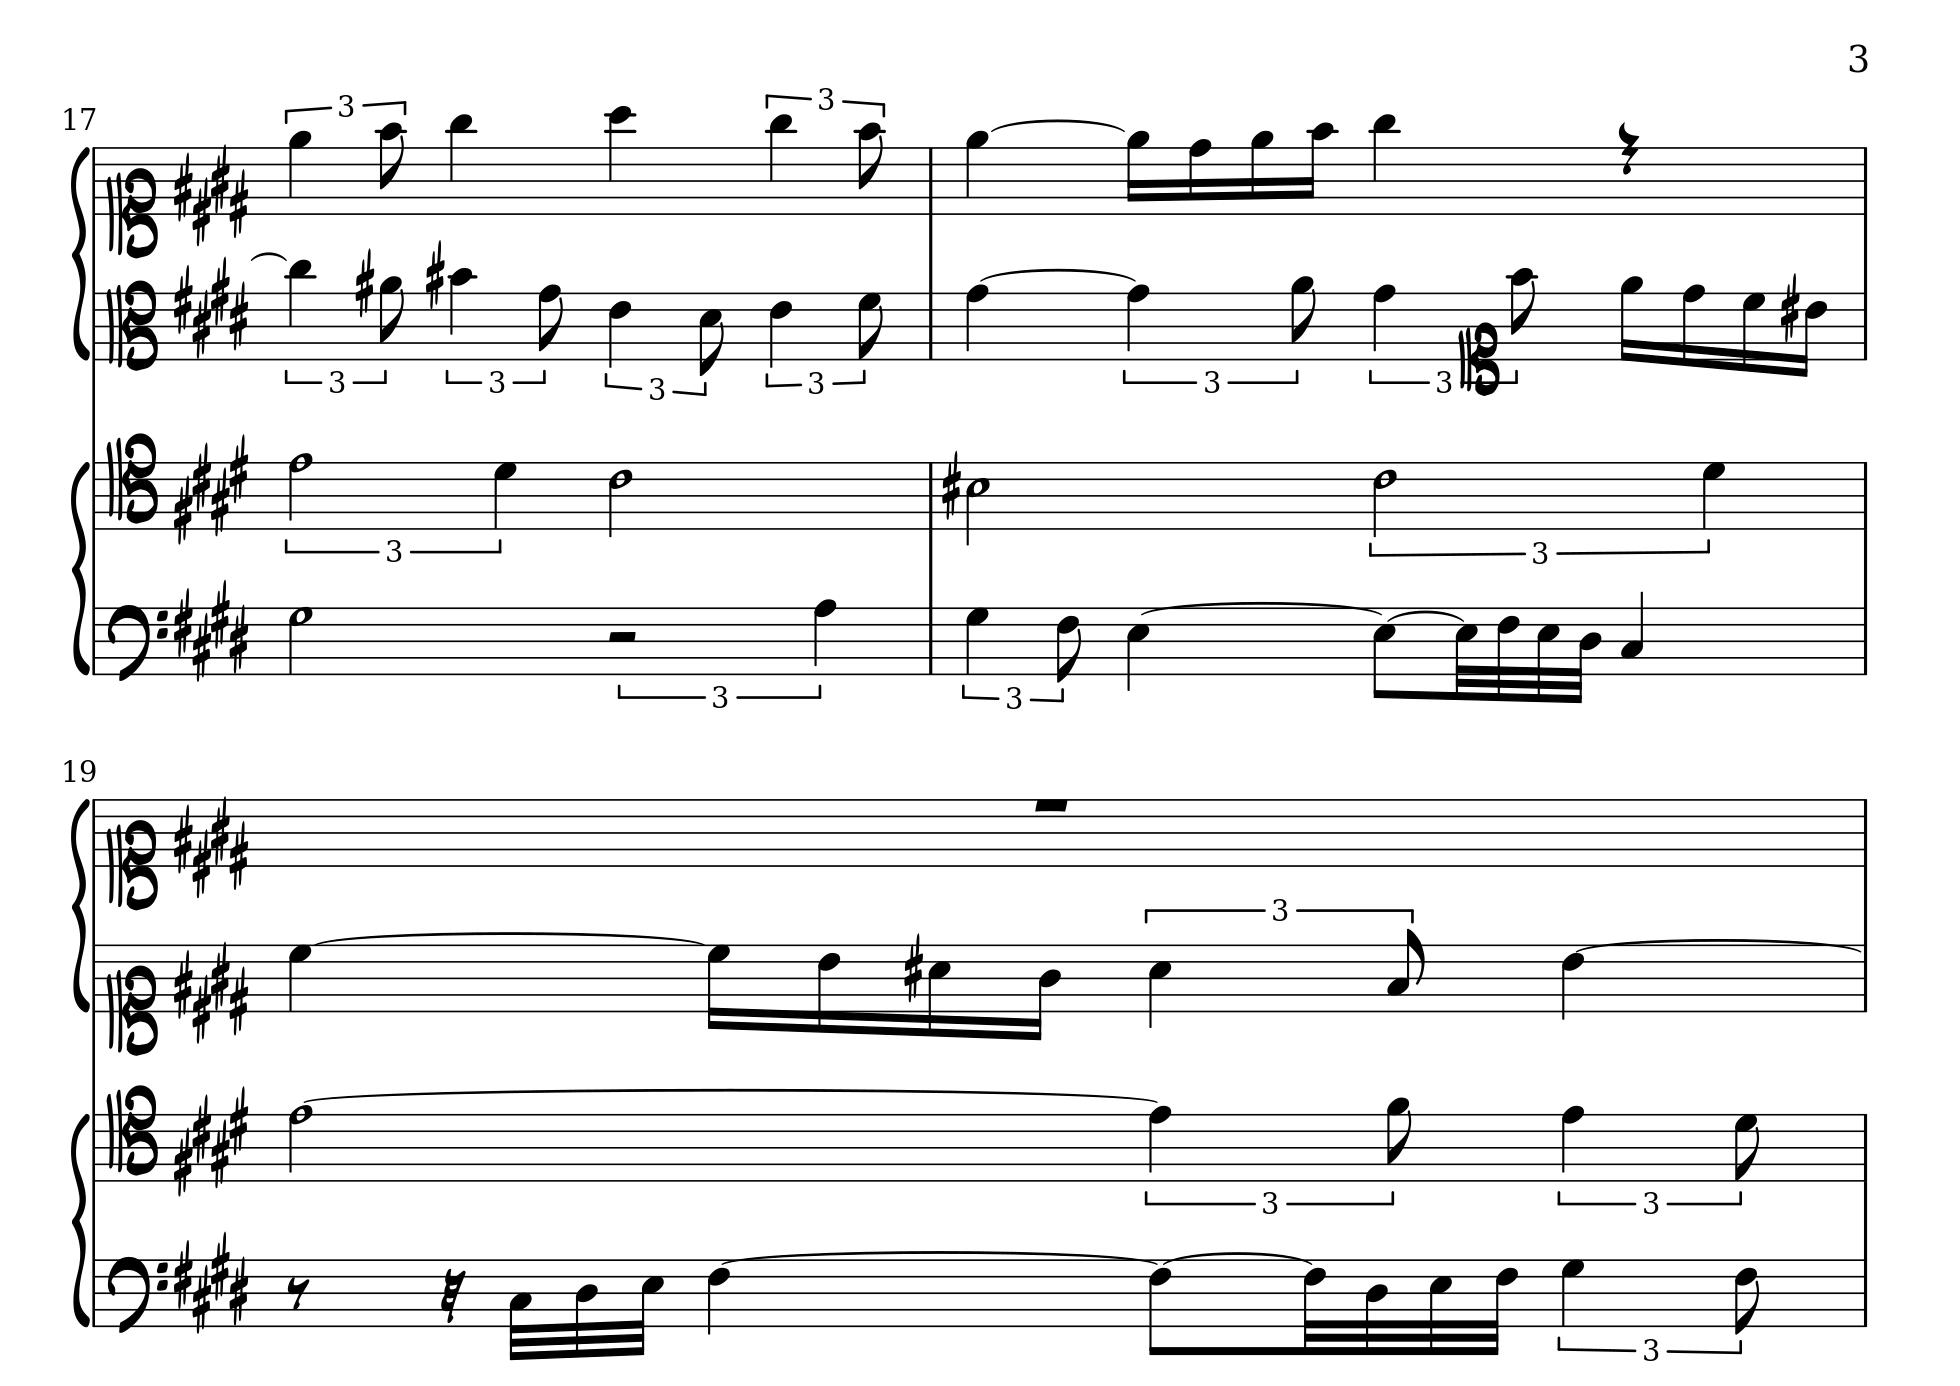1: (61, 105, 76, 133), (61, 756, 76, 784)
16_10: (1300, 121, 1336, 217)
16_4: (1029, 942, 1062, 1042)
16_5: (927, 942, 952, 1039)
16_6: (1797, 289, 1828, 376), (814, 940, 841, 1036)
16_7: (705, 940, 730, 1032), (1740, 289, 1767, 375)
16_8: (1680, 282, 1705, 369), (1186, 136, 1213, 217)
16_9: (1249, 127, 1275, 217), (1125, 129, 1150, 217), (1620, 273, 1642, 364)
2_5: (964, 460, 990, 546)
2_6: (607, 460, 631, 538), (1372, 460, 1396, 537)
2_7: (286, 604, 312, 676)
2_8: (286, 1102, 312, 1182), (286, 451, 310, 529)
3: (1848, 40, 1870, 73), (1641, 1335, 1662, 1366), (484, 367, 508, 394), (1200, 367, 1224, 394), (325, 367, 348, 394), (382, 537, 405, 564), (709, 682, 732, 709), (1641, 1189, 1663, 1216), (816, 84, 837, 112), (1003, 684, 1023, 714), (334, 91, 355, 118), (805, 369, 826, 396), (646, 375, 667, 402), (1530, 538, 1551, 565), (1260, 1189, 1281, 1216), (1270, 895, 1290, 922)
32_3: (507, 1255, 534, 1360)
32_4: (1572, 606, 1602, 705), (573, 1258, 598, 1359), (1365, 1257, 1390, 1356)
32_5: (631, 1257, 666, 1356), (1428, 1257, 1455, 1356), (1536, 604, 1561, 703), (1455, 606, 1479, 700)
32_6: (1486, 1257, 1519, 1356), (1302, 1257, 1329, 1357), (1497, 604, 1521, 703)
4_10: (448, 265, 474, 360)
4_11: (766, 109, 796, 217), (447, 109, 475, 217)
4_12: (604, 103, 636, 217)
4_3: (1620, 589, 1645, 676)
4_5: (1125, 604, 1152, 693), (1146, 942, 1173, 1030)
4_6: (1560, 942, 1585, 1021), (706, 1257, 730, 1338), (607, 289, 631, 367), (768, 291, 792, 367)
4_7: (1701, 459, 1728, 529), (286, 942, 313, 1012), (1560, 1258, 1587, 1327), (964, 604, 990, 675), (492, 460, 517, 529)
4_8: (811, 595, 837, 676), (964, 282, 990, 361), (1125, 282, 1150, 361), (1371, 282, 1396, 361), (1147, 1102, 1173, 1182), (1560, 1102, 1585, 1182)
4_9: (964, 127, 990, 216), (288, 127, 310, 216)
7: (79, 103, 96, 133)
8_10: (376, 120, 406, 217), (856, 120, 886, 217), (1509, 265, 1537, 363)
8_11: (1371, 111, 1398, 217), (286, 255, 313, 358)
8_3: (1386, 925, 1426, 1012)
8_5: (1371, 604, 1396, 702), (697, 291, 724, 376)
8_6: (1147, 1255, 1173, 1357), (1056, 604, 1083, 682), (1734, 1257, 1761, 1335)
8_7: (1732, 1111, 1762, 1183), (856, 291, 883, 361)
8_8: (537, 282, 565, 361)
8_9: (1384, 1096, 1413, 1183), (378, 274, 405, 361), (1290, 274, 1317, 361)
9: (79, 756, 96, 783)
Brace: (70, 1108, 91, 1329), (70, 459, 91, 678), (70, 796, 91, 1015), (70, 144, 90, 360)
Cclef: (103, 277, 156, 370)
E_S: (169, 1087, 253, 1192), (169, 436, 252, 538), (171, 795, 252, 898), (171, 940, 250, 1042), (171, 259, 253, 357), (171, 145, 252, 244), (171, 580, 250, 679), (172, 1231, 250, 1332)
Fclef: (105, 1254, 168, 1336), (105, 601, 166, 685)
Rests1: (1030, 795, 1072, 814)
Rests16: (438, 1267, 466, 1324)
Rests2: (604, 628, 640, 643)
Rests4: (1617, 120, 1641, 177)
Rests8: (283, 1275, 310, 1311)
Sharp: (352, 247, 375, 318), (423, 240, 445, 310), (1779, 273, 1801, 343), (901, 933, 924, 1003), (940, 450, 961, 522)
Single_barline: (1852, 943, 1876, 1011), (922, 145, 940, 213), (922, 291, 940, 357), (1857, 799, 1875, 865), (1857, 1114, 1875, 1179), (1857, 292, 1873, 358), (1857, 607, 1873, 673), (1857, 1258, 1873, 1324), (1857, 147, 1873, 211), (922, 462, 939, 526), (1857, 462, 1873, 526), (922, 607, 939, 672), (88, 943, 102, 1012), (88, 1111, 100, 1182), (88, 291, 100, 360), (88, 460, 100, 529), (88, 147, 100, 214), (88, 799, 100, 865), (88, 607, 100, 672), (88, 1260, 100, 1324)
Slur: (990, 118, 1132, 136), (981, 267, 1134, 283), (1384, 610, 1467, 622), (250, 250, 286, 262)
Soprano_Cclef: (105, 144, 154, 258), (105, 795, 154, 907), (106, 942, 156, 1053), (1458, 289, 1503, 394)
Tensor_Cclef: (106, 432, 157, 529), (106, 1084, 157, 1180)
